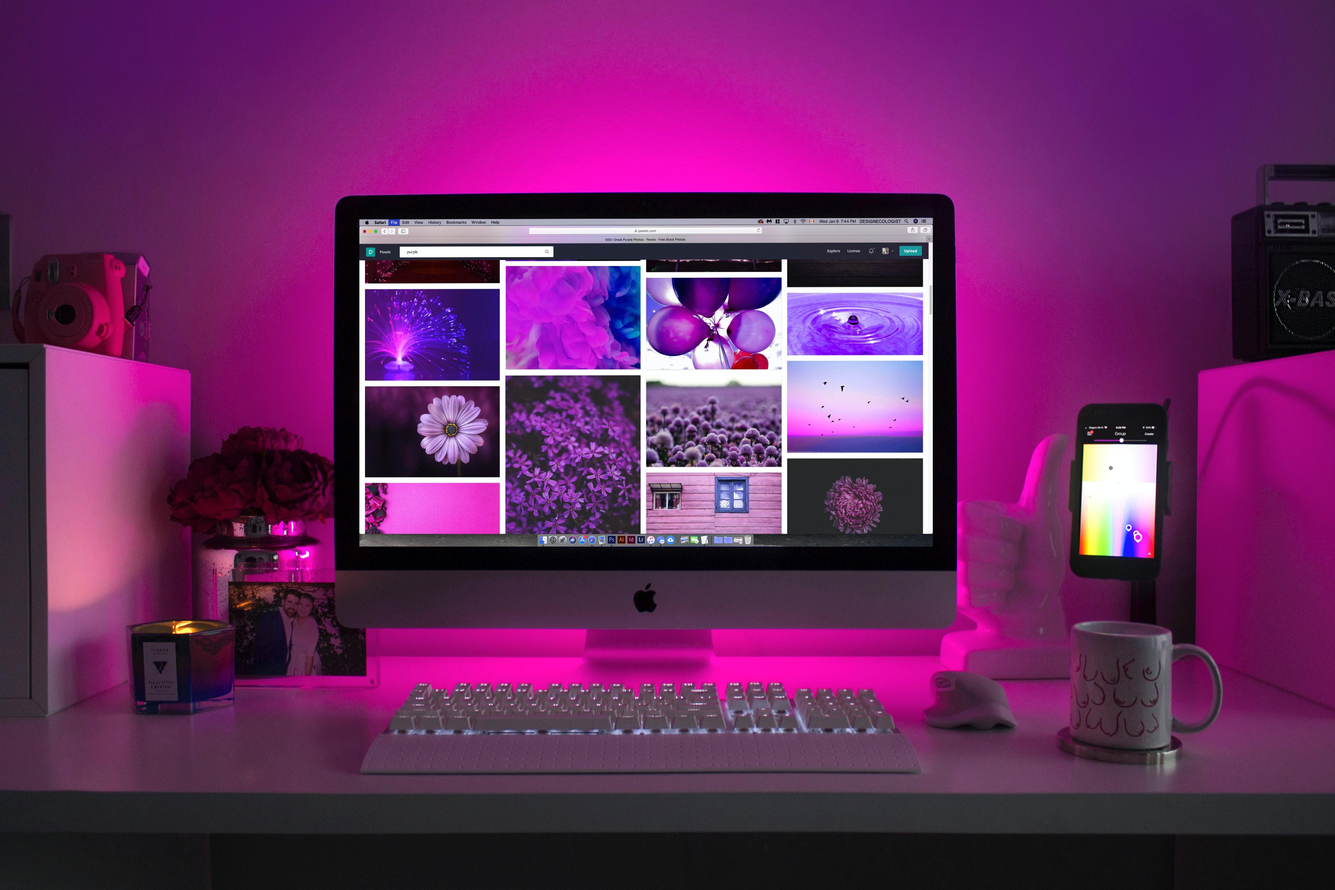monitor: (334, 191, 955, 631)
